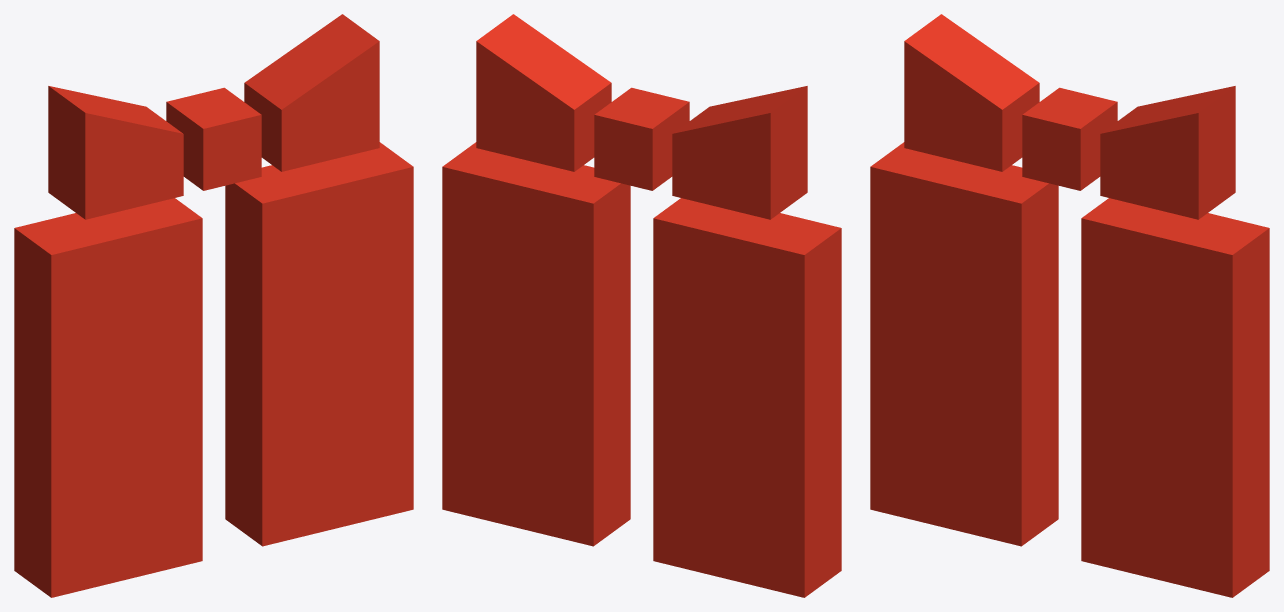
Rendered from Icon_Gift_01.fbx.
3 views of the same model, side by side, from view 1: azimuth 30°, elevation 25°; view 2: azimuth 150°, elevation 25°; view 3: azimuth 330°, elevation 25° (orthographic).
Visible parts, largest first — view 1: Icon_Gift_01; view 2: Icon_Gift_01; view 3: Icon_Gift_01.
Boxes of the visible parts, <box> form: Icon_Gift_01: <box>14,14,413,597</box>; Icon_Gift_01: <box>442,14,841,597</box>; Icon_Gift_01: <box>870,14,1269,597</box>.
Size of the model in its own units: 56.27 by 70.78 by 9.99.
